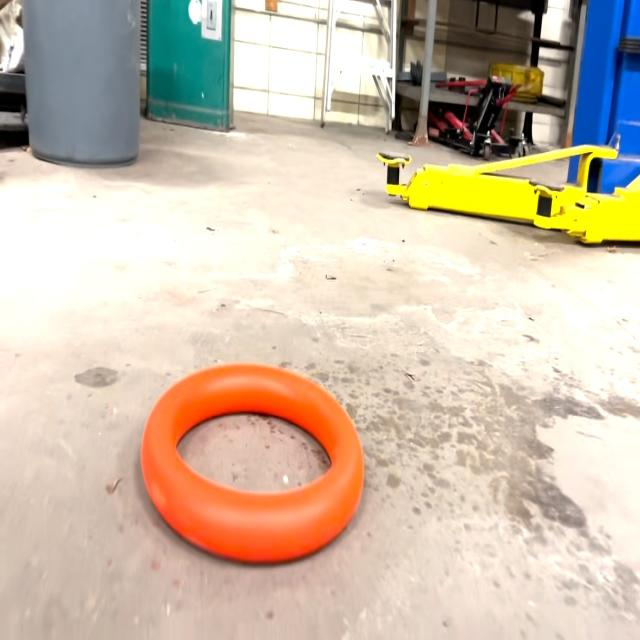note: (136, 368, 366, 569)
